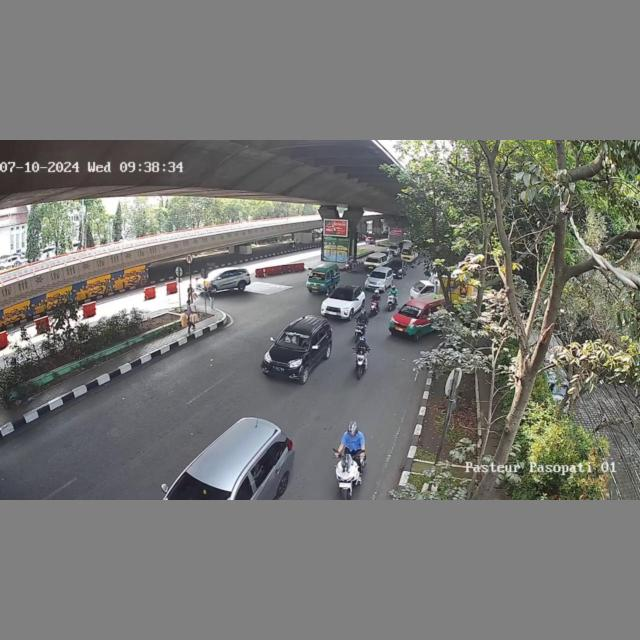windshield: (275, 327, 314, 350), (399, 302, 421, 318), (330, 288, 355, 301), (308, 271, 327, 280), (370, 271, 387, 279)
